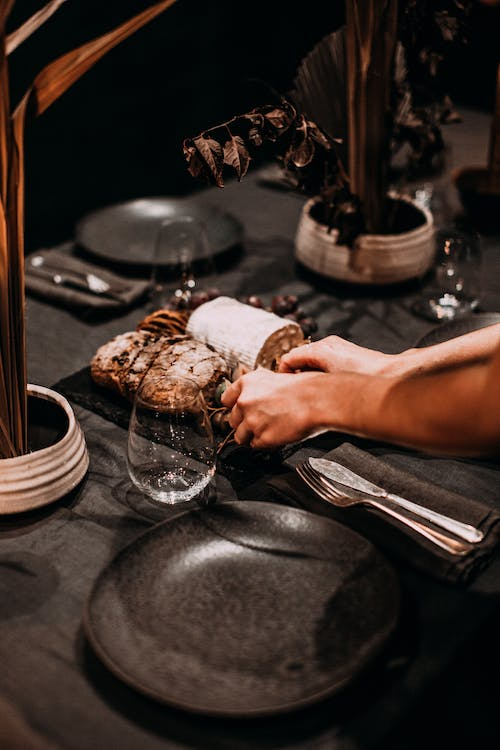knife: (306, 454, 485, 543), (23, 265, 129, 304)
